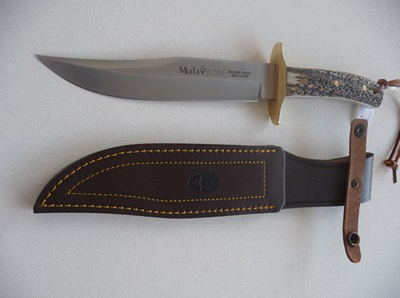knife: (25, 48, 279, 114)
